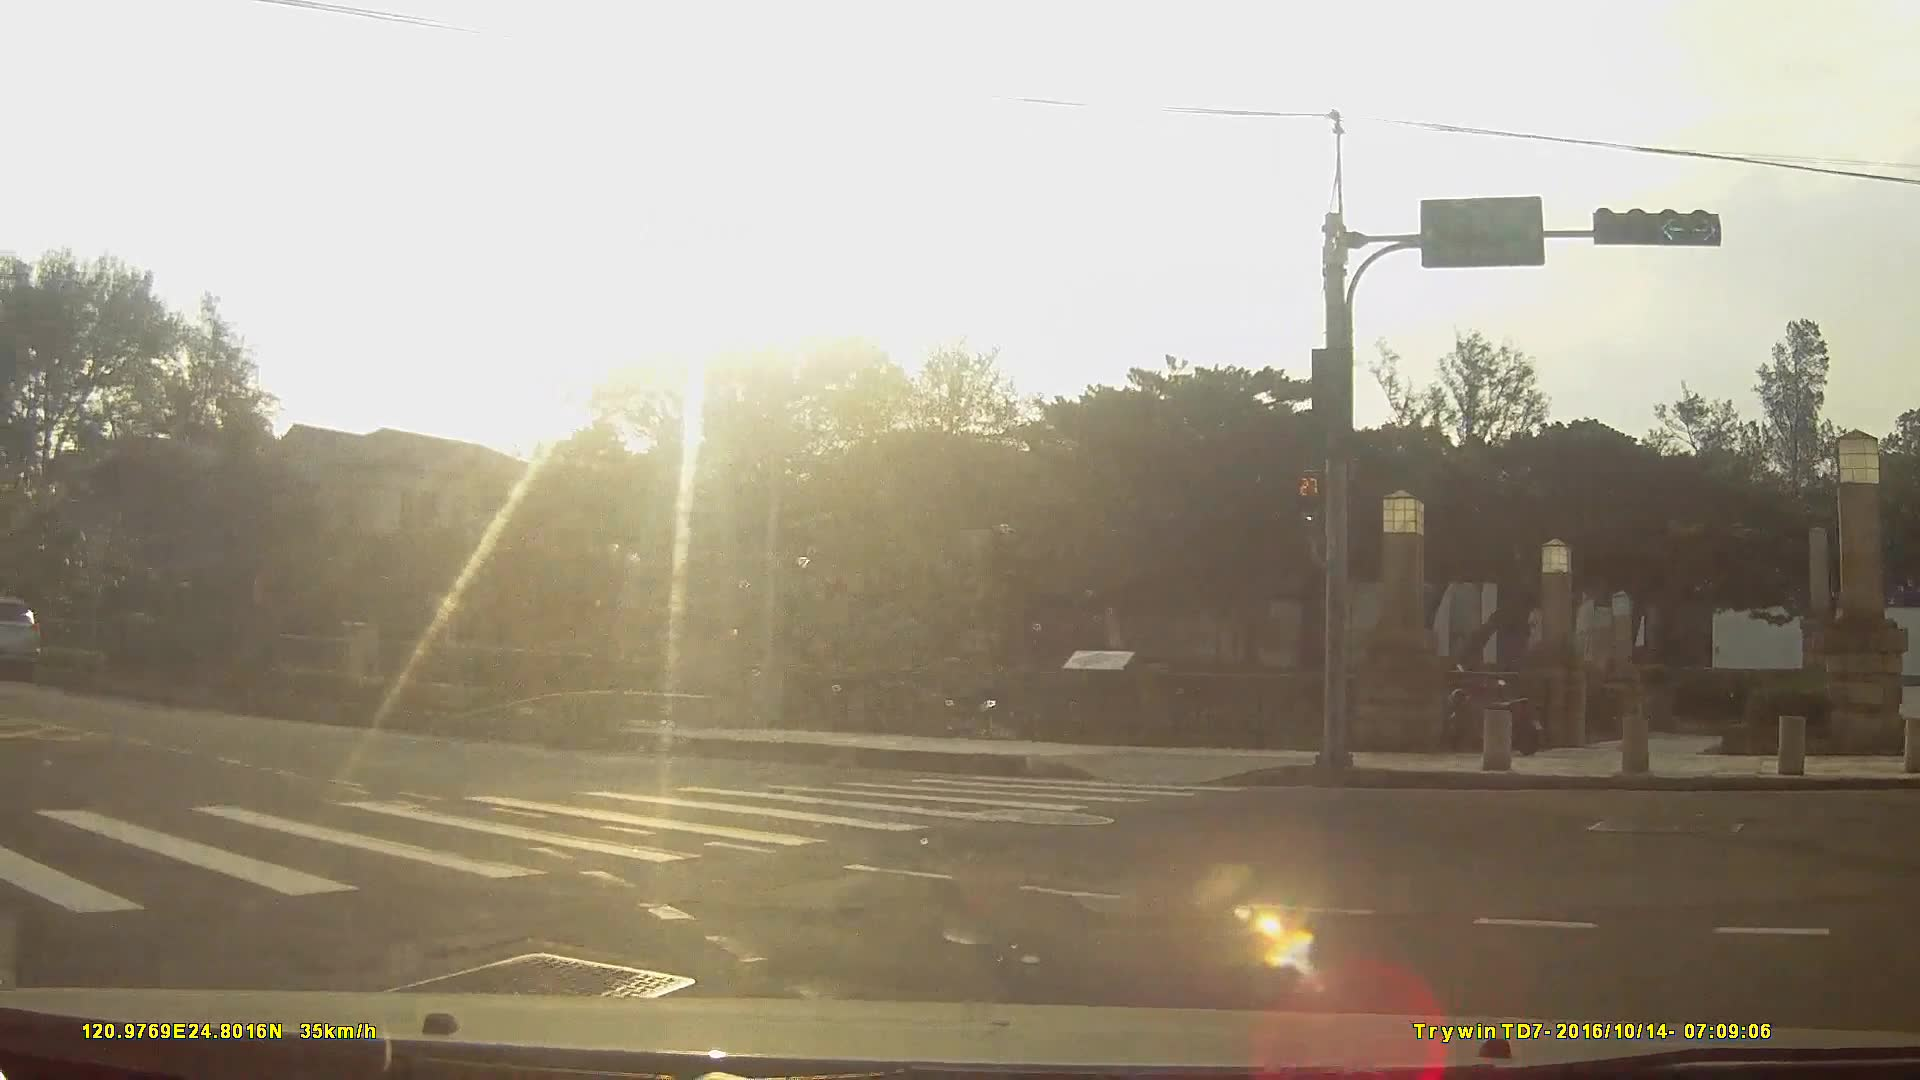vehicle: (0, 593, 44, 683)
